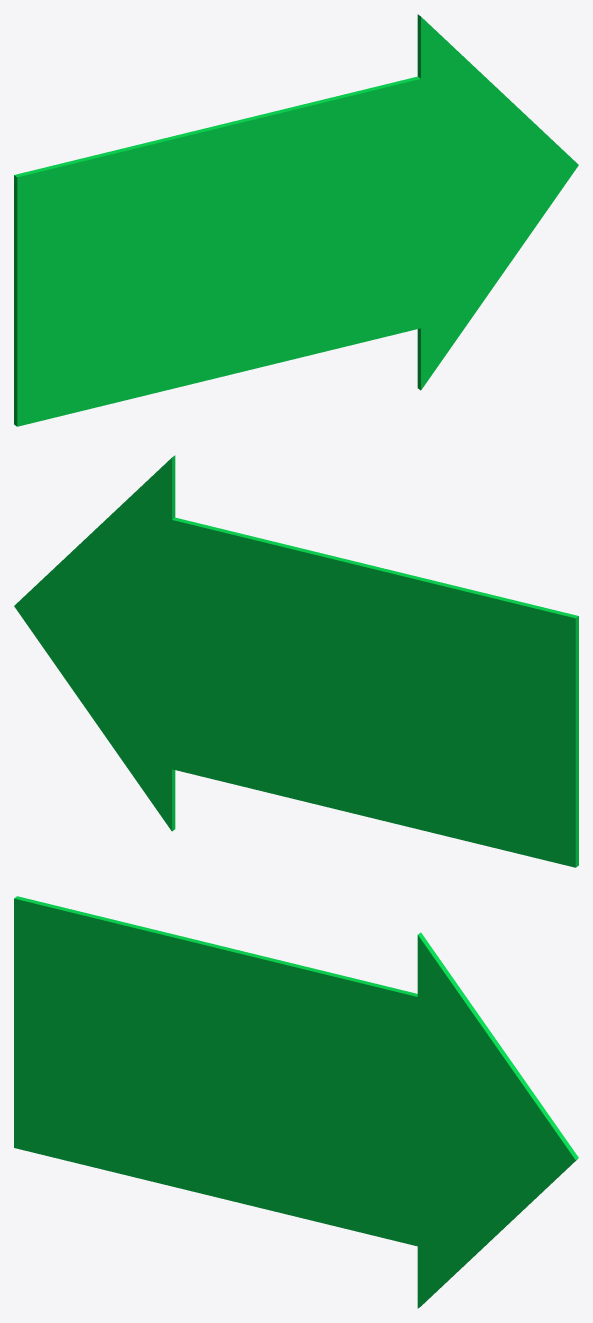
The model's file is arrow_2.fbx.
The picture shows the model from 3 angles, top to bottom: view 1: azimuth 30°, elevation 25°; view 2: azimuth 150°, elevation 25°; view 3: azimuth 330°, elevation 25°; orthographic projection.
Visible parts, largest first — view 1: Arrow; view 2: Arrow; view 3: Arrow.
Boxes of the visible parts, box(x1,y1,x2,y2) form: Arrow: box(14, 14, 578, 426); Arrow: box(14, 455, 578, 867); Arrow: box(14, 896, 578, 1308).
Size of the model in its own units: 100 by 63.64 by 1.
